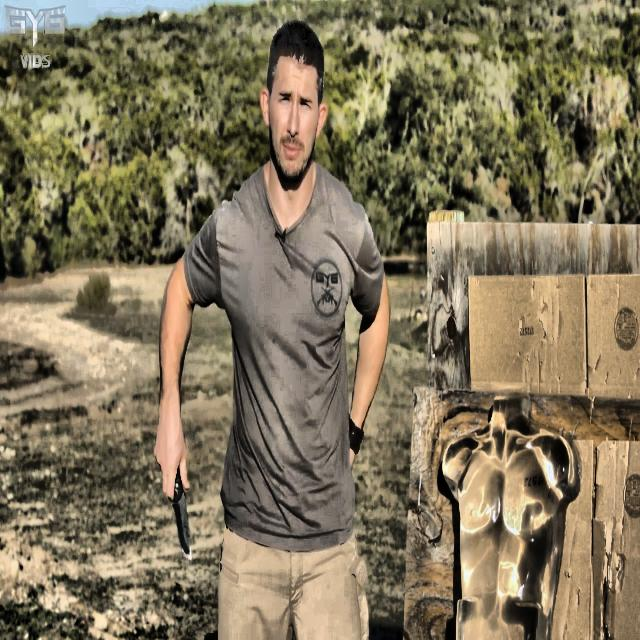knife: (174, 473, 191, 563)
